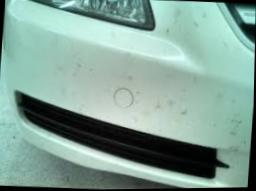Bumper: (211, 148, 240, 176)
